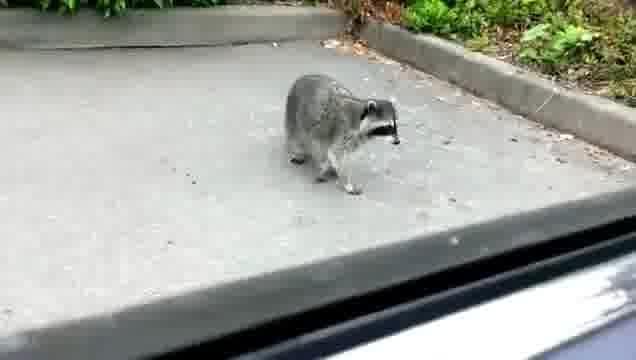raccoon: (283, 74, 402, 195)
